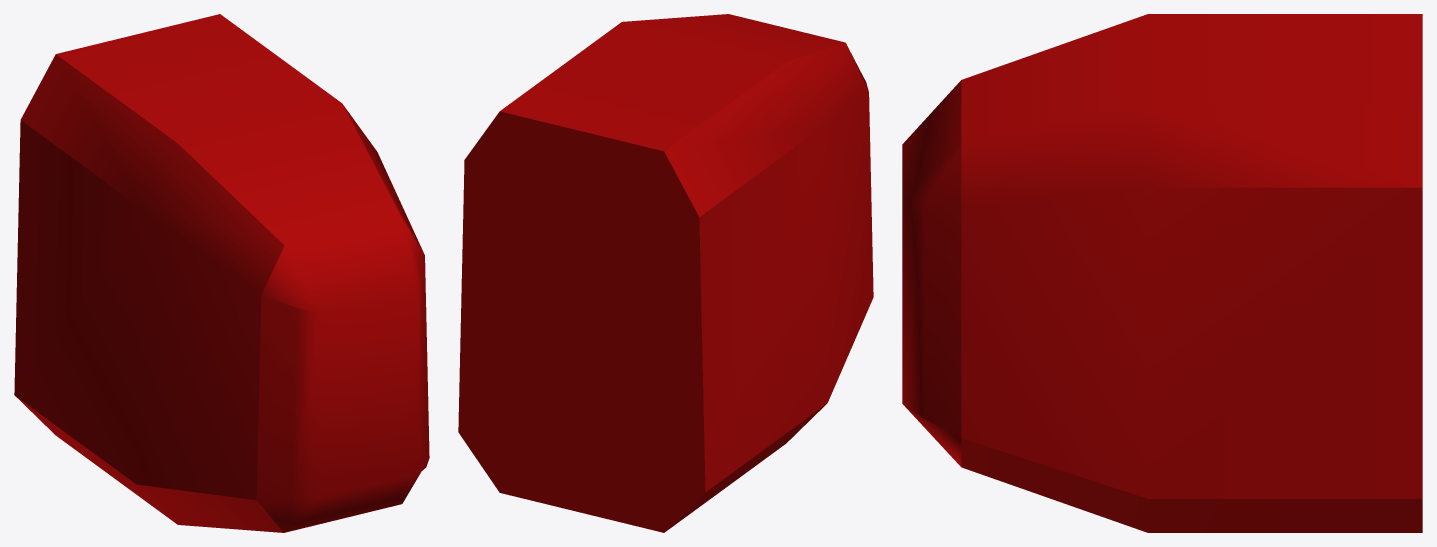
The model's file is Bullet.fbx.
The picture shows the model from 3 angles, left to right: view 1: azimuth 30°, elevation 25°; view 2: azimuth 150°, elevation 25°; view 3: azimuth 270°, elevation 25°; orthographic projection. The views are drawn at different scales.
Visible parts, largest first — view 1: pCube4; view 2: pCube4; view 3: pCube4.
Boxes of the visible parts, x1,y1,x2,y2 form: pCube4: (14,14,429,532); pCube4: (458,14,873,532); pCube4: (902,14,1422,532).
Bounding box in the file's own units: 0.4562 × 0.6731 × 0.74.
